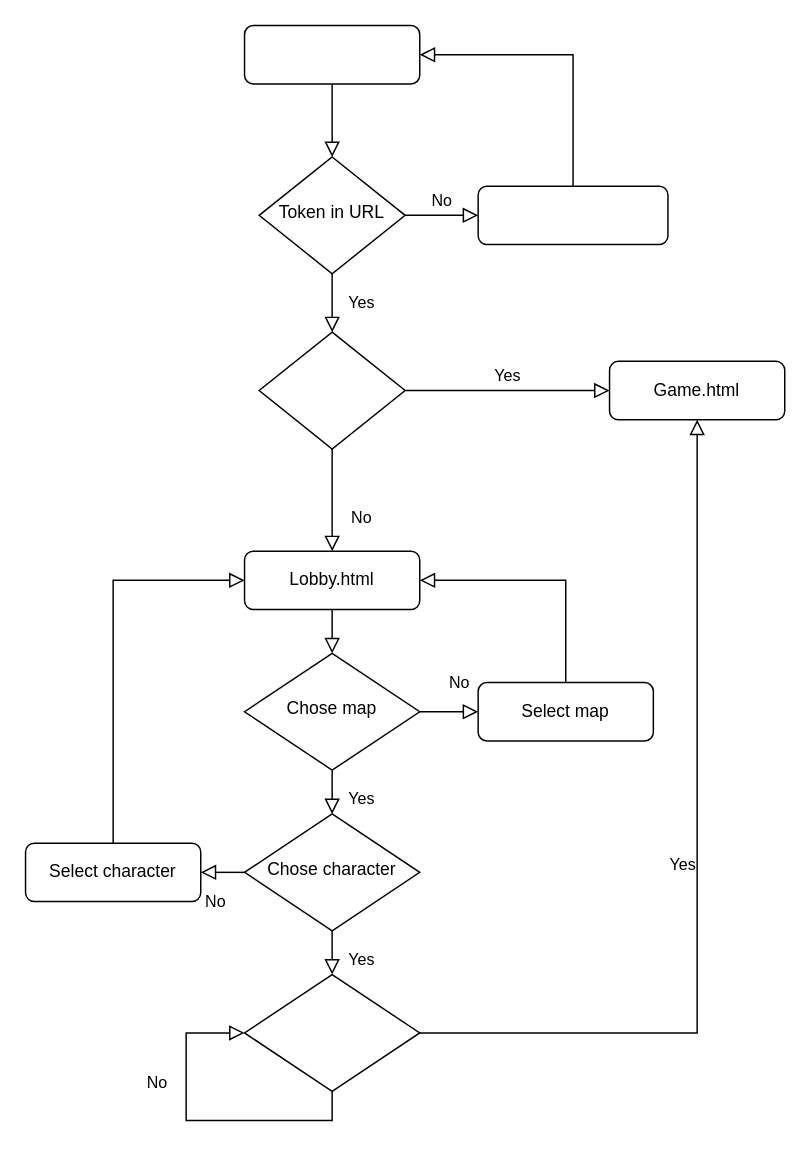
Image size: 810x1161. Some labels were removed from this diagram. Each missing label, with the centre of its shape:
"Get token from server" goes at point (572, 215).
"Index.html" goes at point (331, 54).
"Players are ready" goes at point (331, 1032).
"Token in lobby" goes at point (331, 390).
